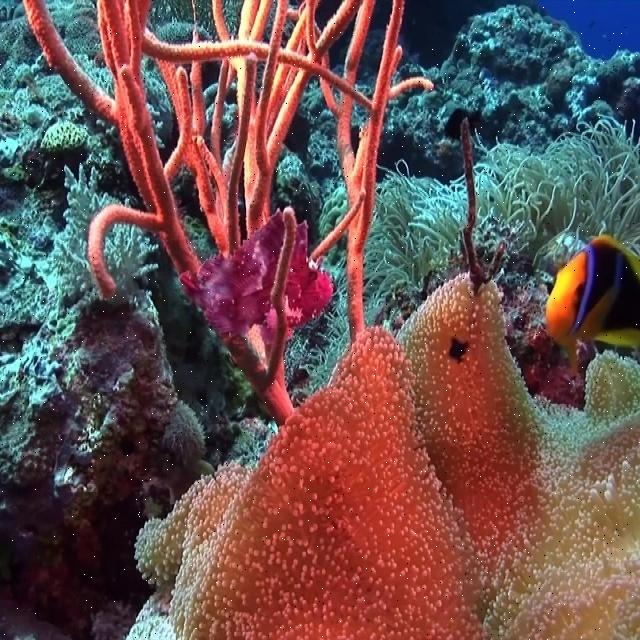aquatic plants: (1, 427, 639, 638)
fish: (303, 530, 403, 639), (368, 450, 432, 582), (93, 337, 192, 418), (214, 361, 291, 458), (405, 294, 483, 377), (517, 583, 599, 639), (399, 440, 426, 525)
